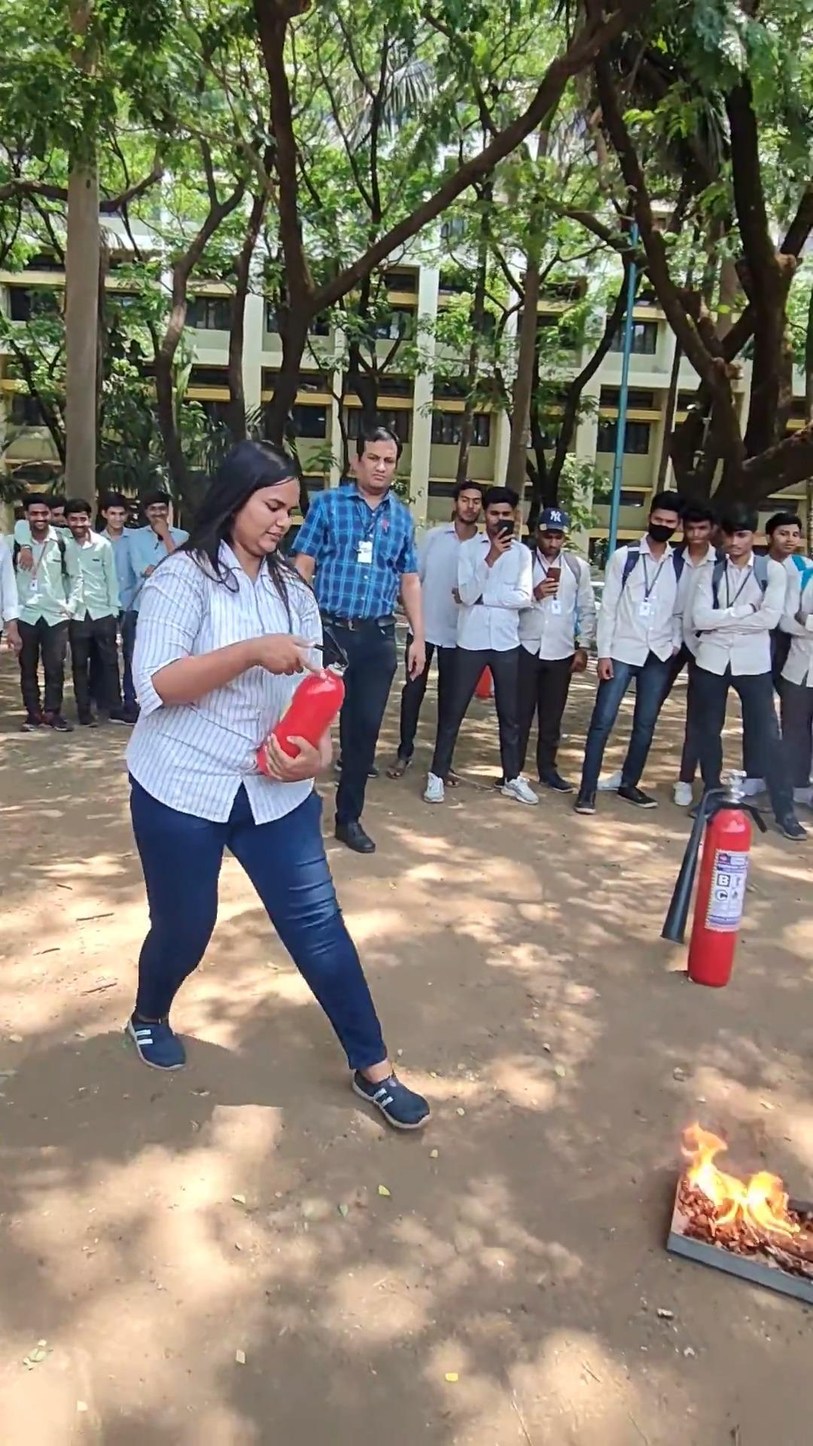FireExtinguisher: (664, 776, 780, 998), (247, 645, 366, 787)
